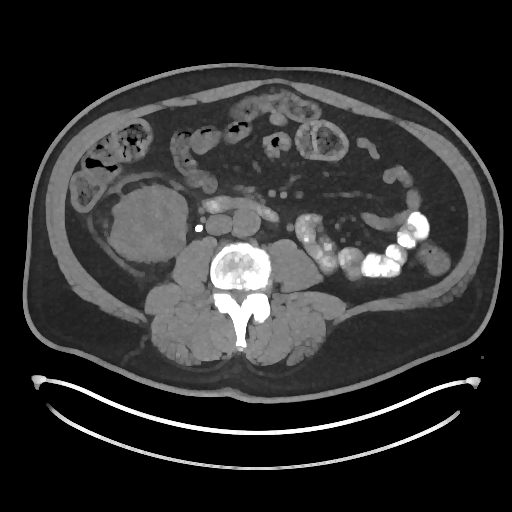Lesion: (110, 190, 184, 264)
